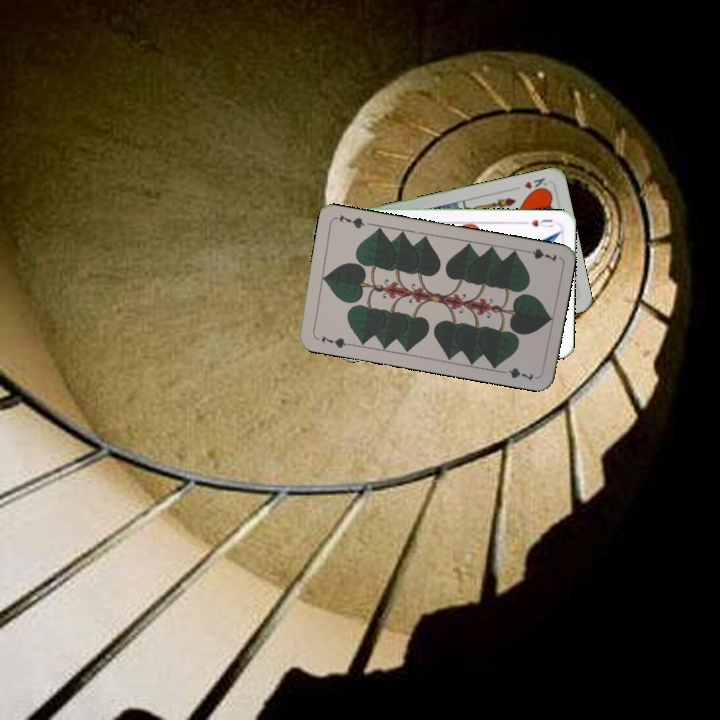G7: (519, 244, 560, 265), (317, 332, 353, 351)
HK: (520, 174, 551, 195)
HU: (519, 215, 556, 230)
